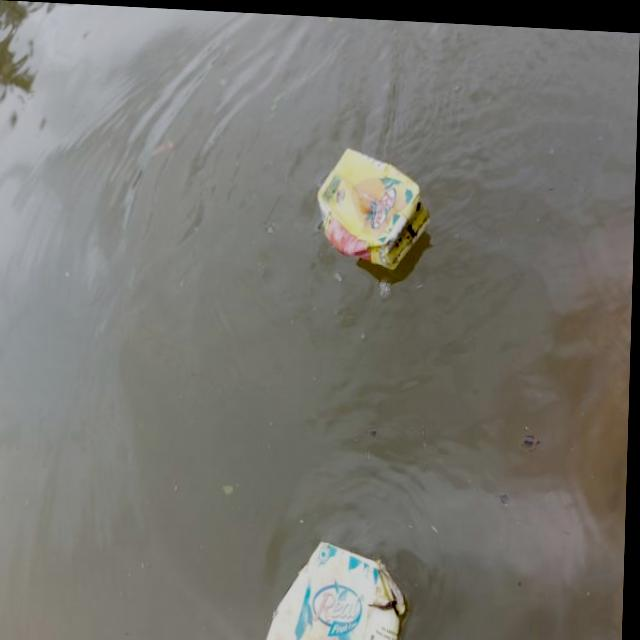paper: (251, 537, 429, 640), (299, 145, 441, 269)
